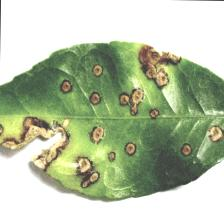canker: (4, 47, 222, 180)
